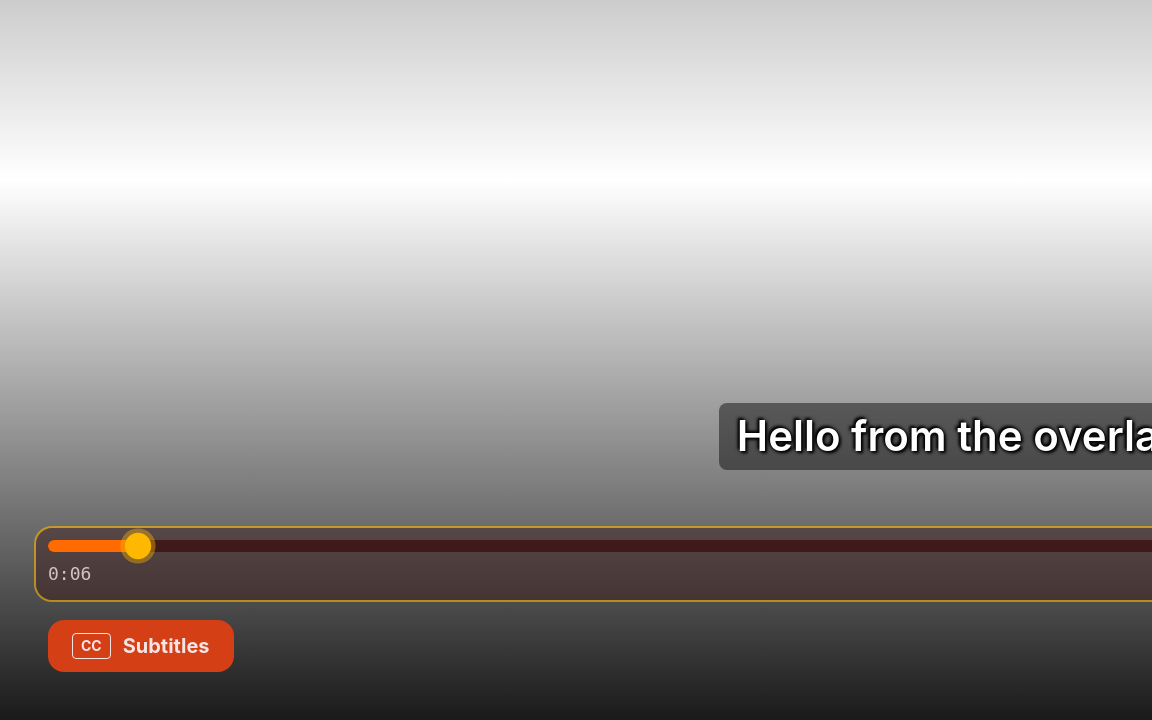
it: PlayerScreen subtitle delay end-to-end via modal › changing the delay in the Timing tab shifts the visible subtitle
Later steps or results of the test are not shown.
(page scrolled)
Click the button with test id "subtitles-button" at (141, 646), box [48,620,234,672]
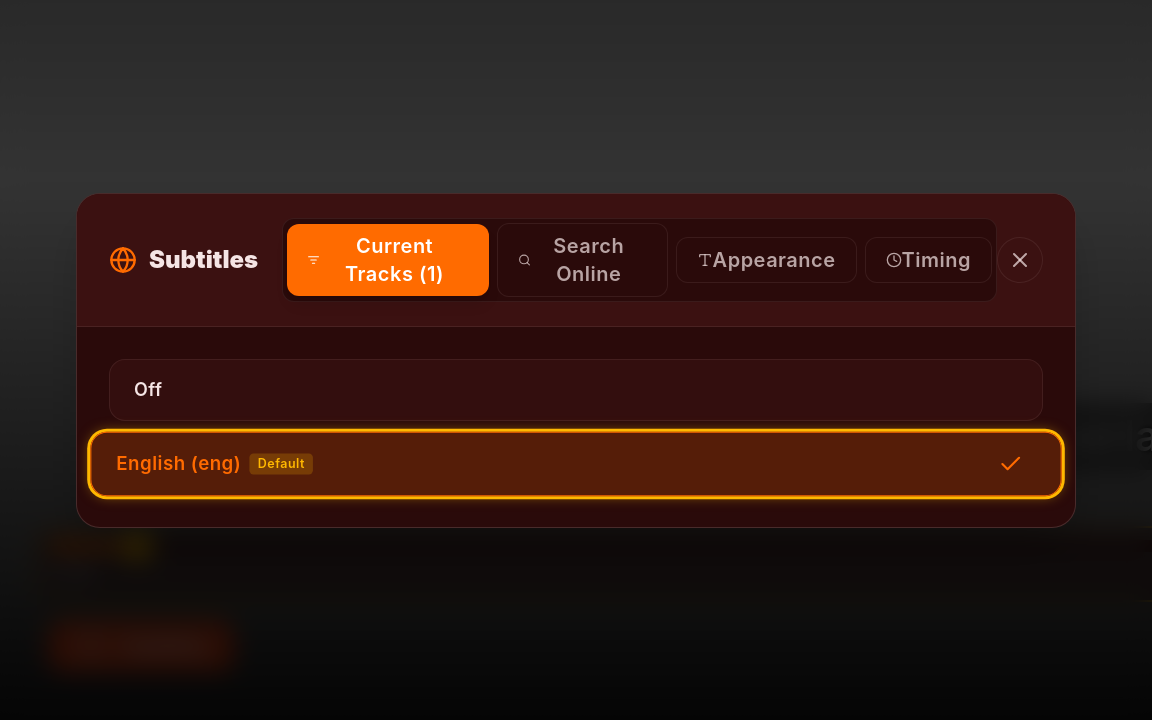
Click the button "Timing" at (928, 260), box [865,236,992,282]
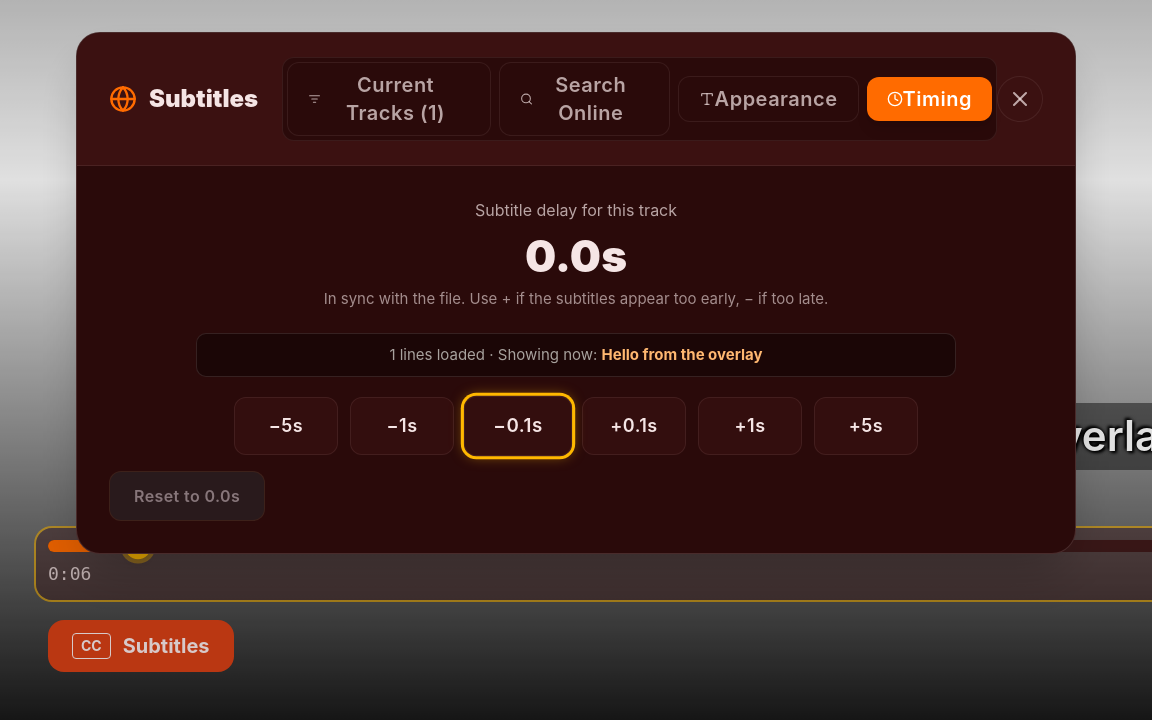
Click the button with test id "sub-delay-plus-5000" at (866, 426), box [814,397,918,455]
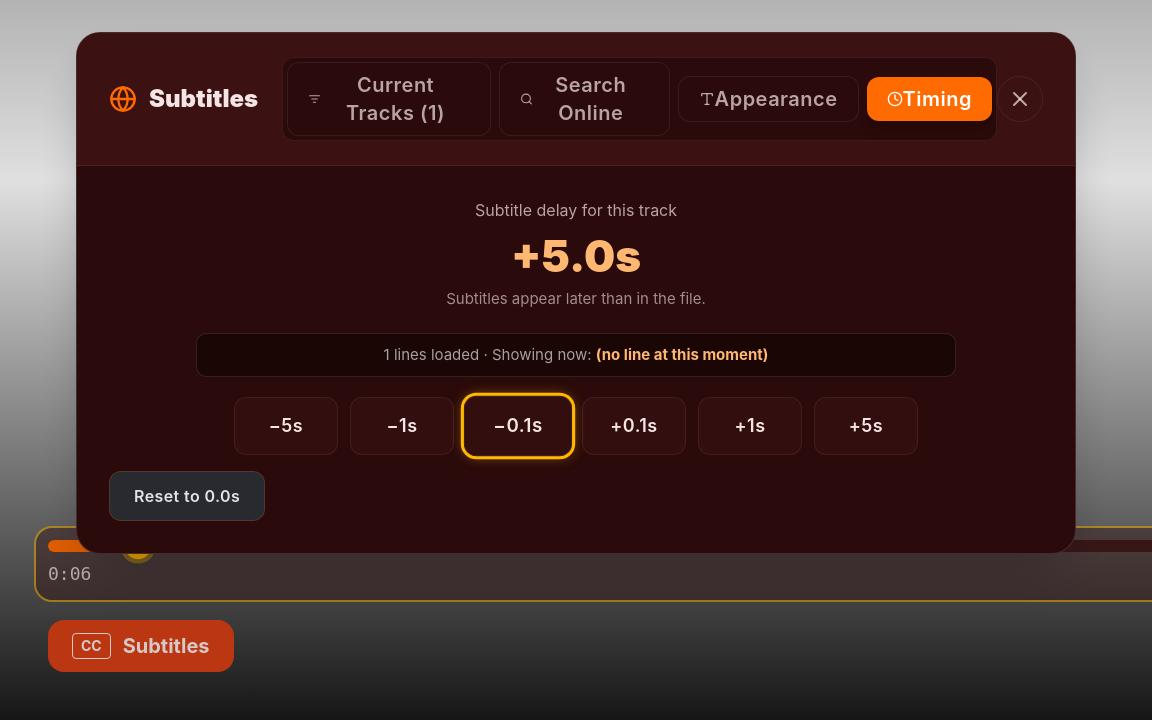
Now the element with test id "subtitle-delay-status" shows "1 lines loaded", box [196,332,956,377]
Now the text with test id "subtitle-delay-value" reads "+5.0s", box [511,229,641,283]
Now the element with test id "subtitle-delay-status" shows "(no line at this moment)", box [596,344,768,364]
Click the button with test id "sub-delay-minus-5000" at (286, 426), box [234,397,338,455]
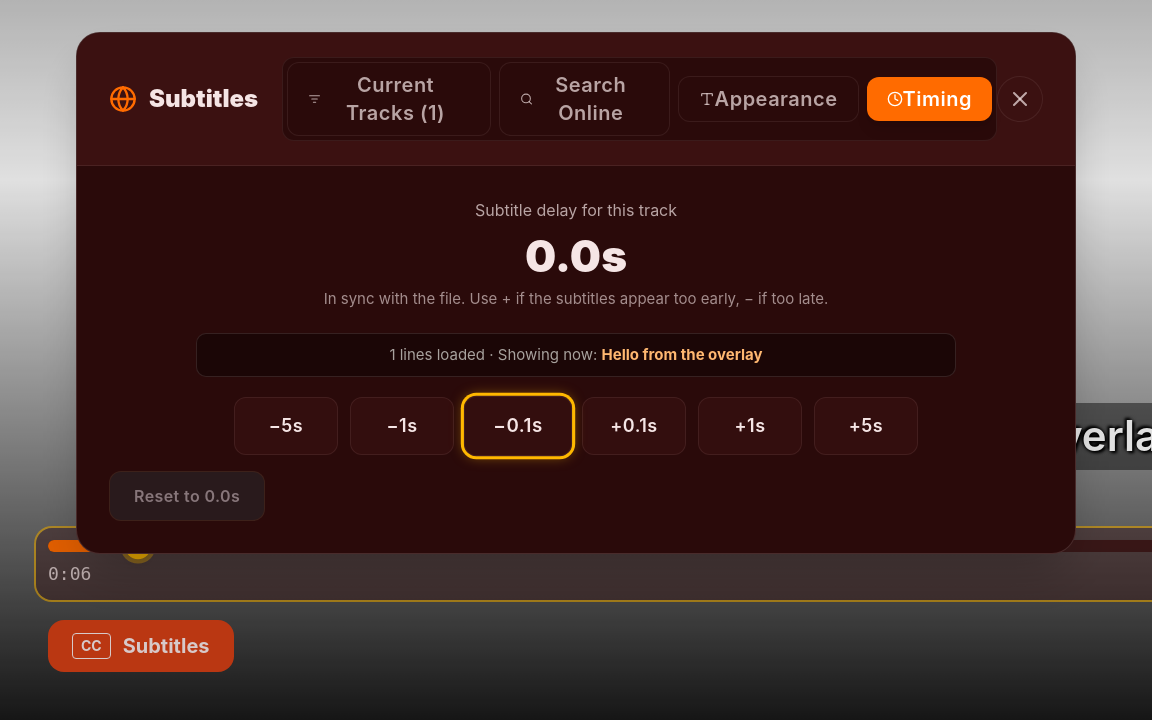
Click the button with test id "sub-delay-minus-5000" at (286, 426), box [234,397,338,455]
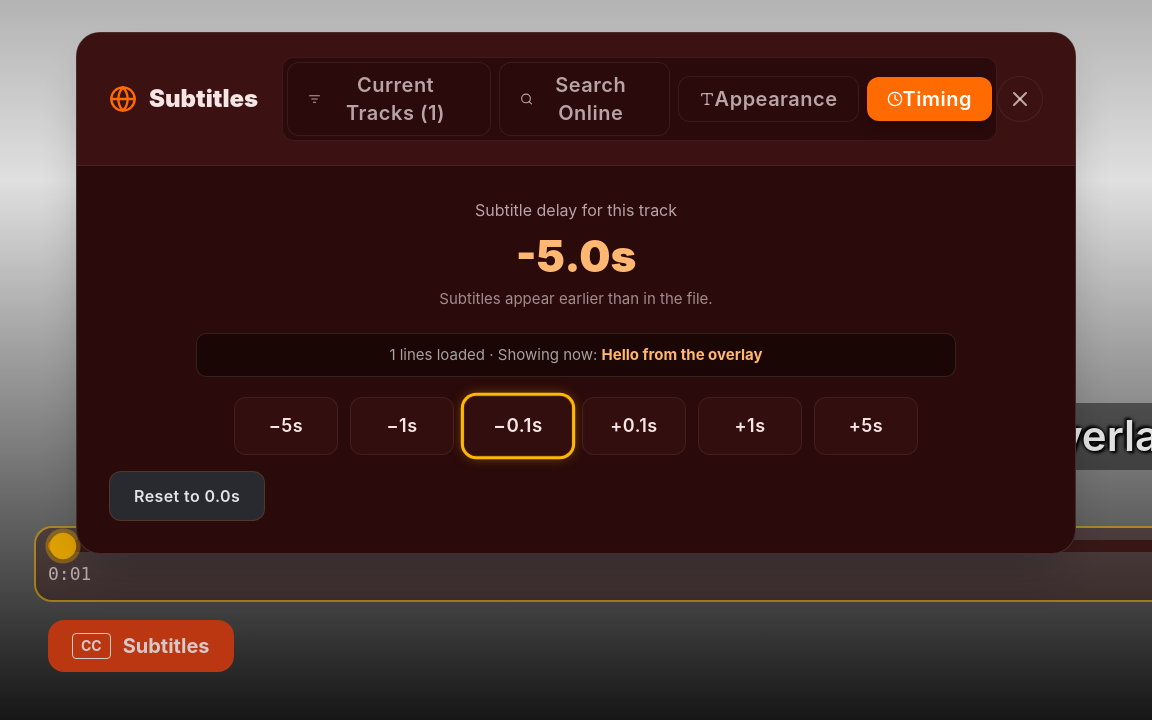
Now the text with test id "subtitle-delay-value" reads "-5.0s", box [516,229,636,283]
